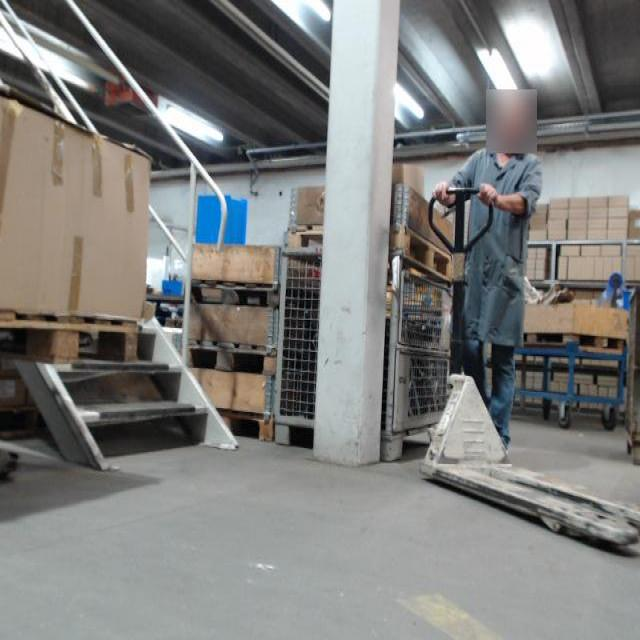pallet: (288, 219, 452, 284), (0, 305, 140, 365), (180, 335, 280, 375), (184, 275, 283, 310), (518, 330, 629, 355), (213, 403, 277, 441)
pallet_truck: (413, 178, 639, 559)
stillage: (267, 235, 456, 471)
